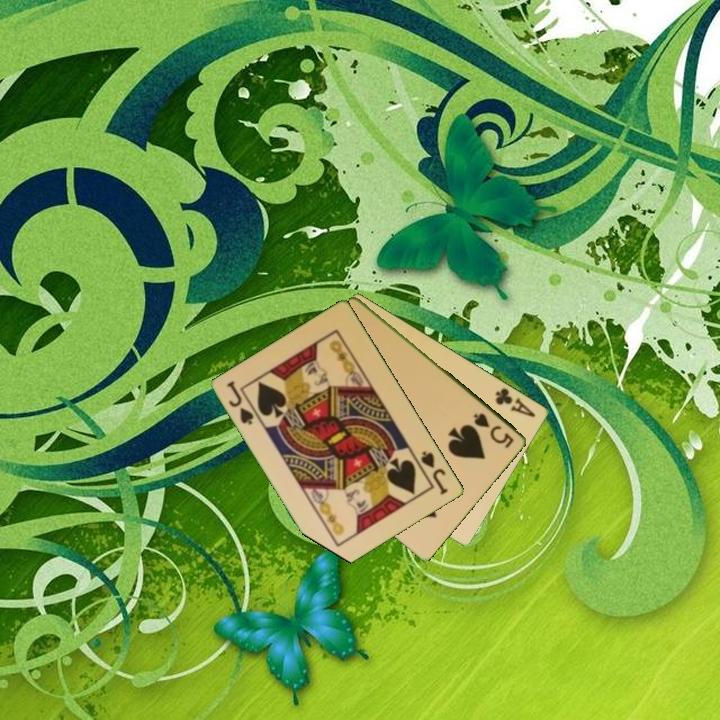5s: (470, 409, 517, 452)
Ac: (492, 384, 539, 420)
Js: (418, 447, 451, 498), (224, 377, 257, 428)
